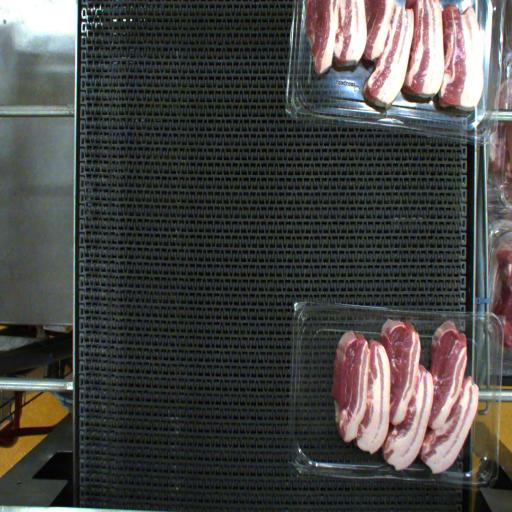packaging-error: (386, 302, 477, 346)
